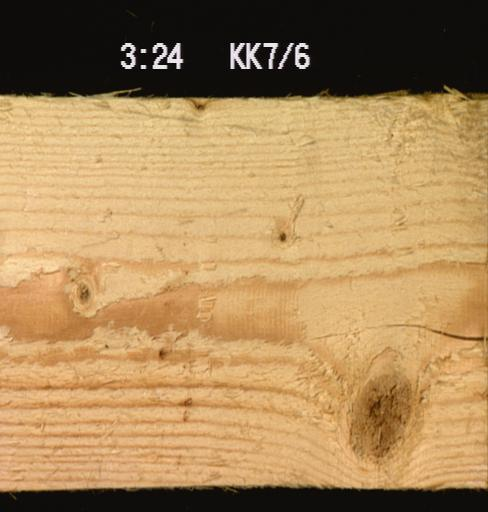small_knot: (69, 273, 96, 309), (187, 96, 211, 112), (275, 227, 288, 243)
sound_knot: (345, 367, 414, 461)
split: (386, 319, 487, 340)
